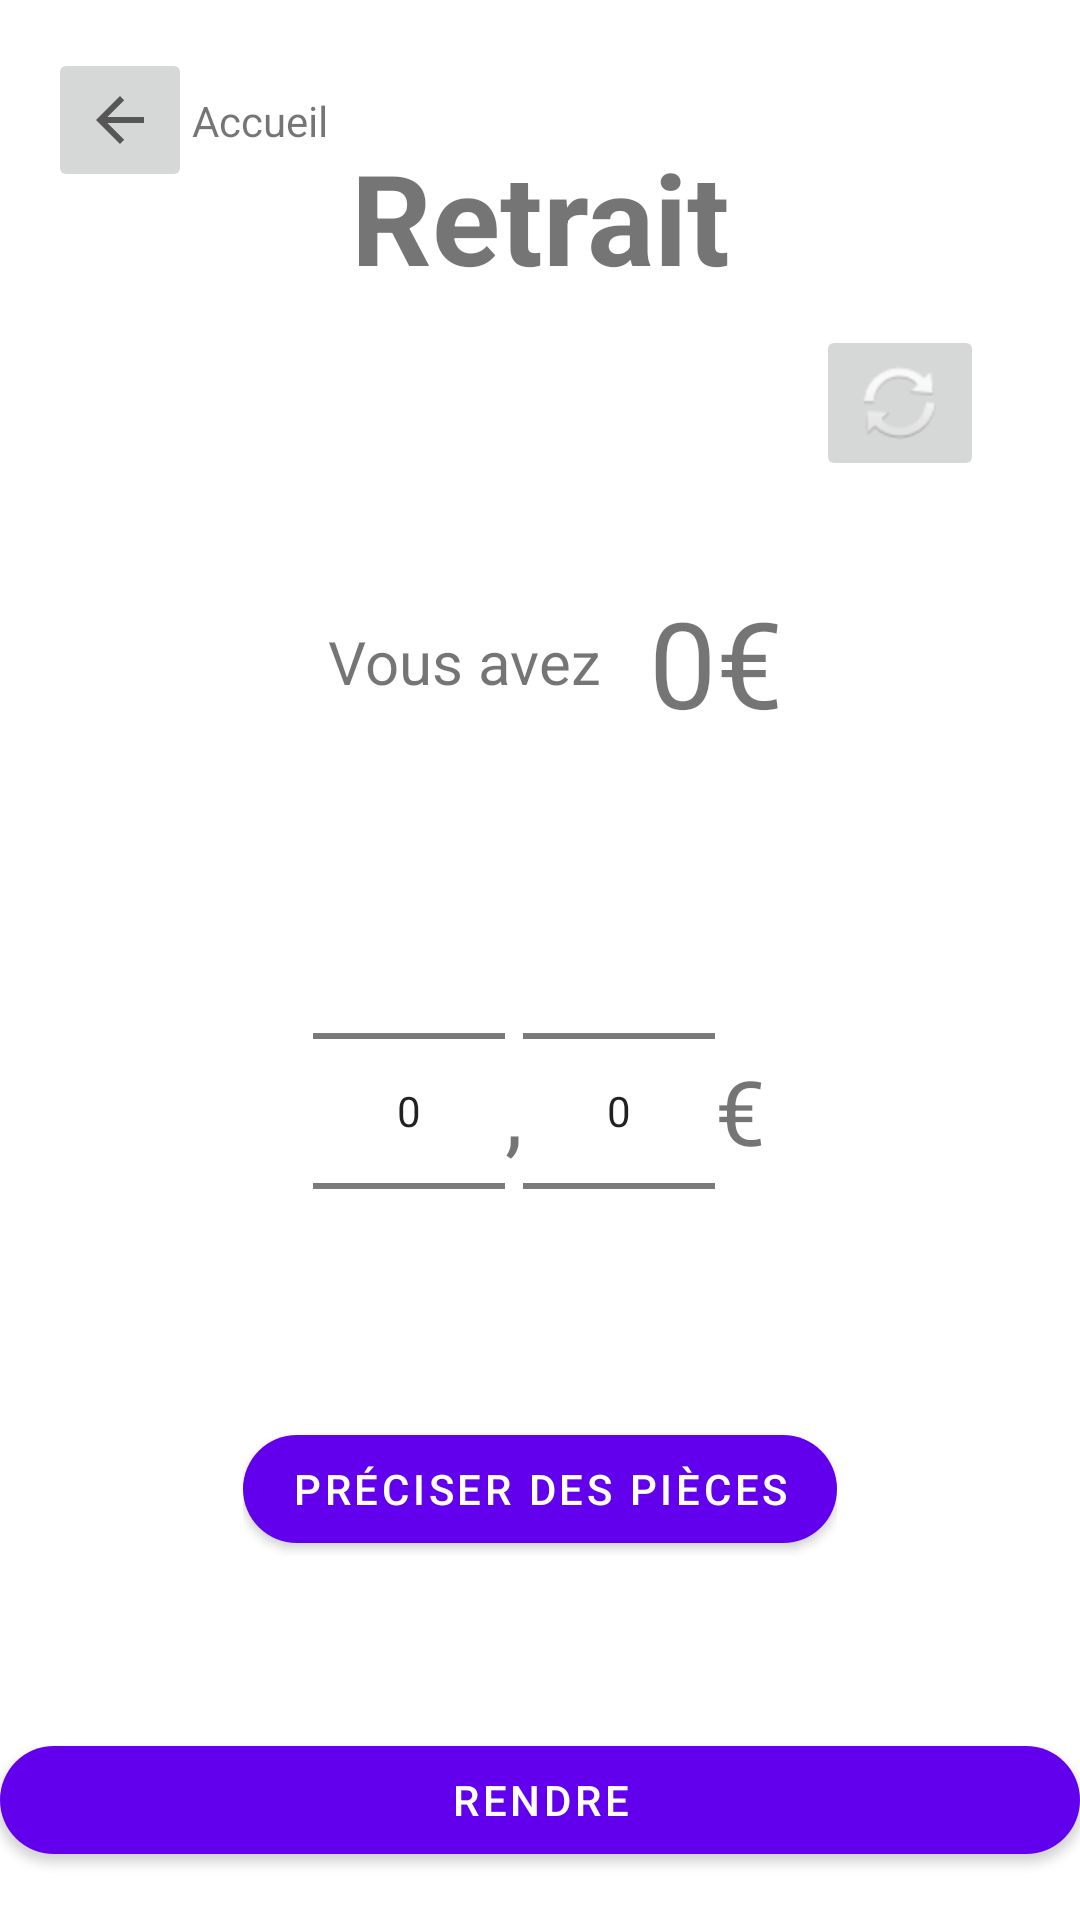

Icon click points for this 1080*1920 phone screenshot, format [x,y]:
Rafraichissement des données: [900,403]
